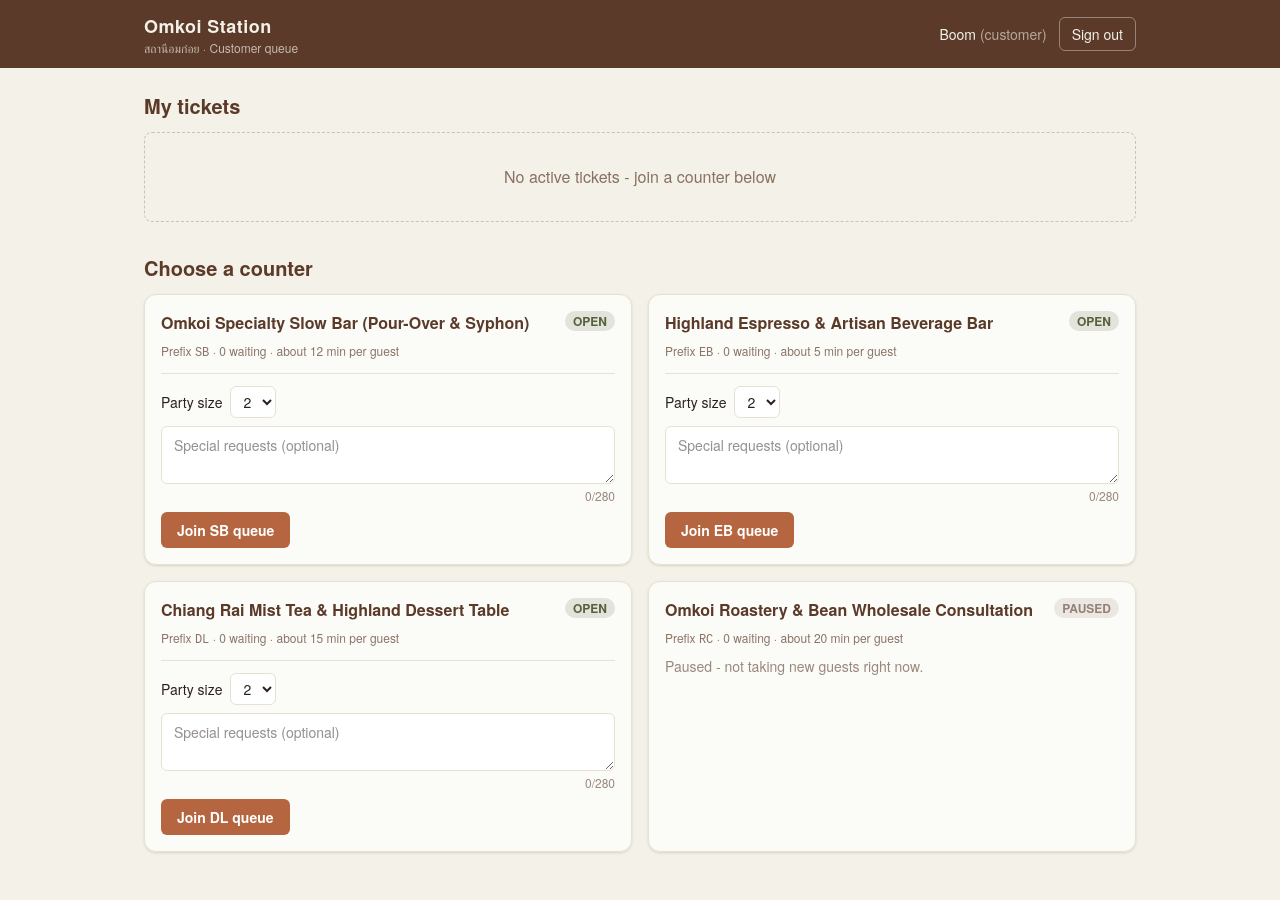
Test case: TEST-13 / AC-04, NFR-05: customer queue portal (component, mocked API) › disables joining a paused counter and shows the server's 409 message in a banner
Expected: the text "Paused - not taking new guests right now." is shown, [665,656,923,676]
Click the button "Join EB queue": {"x": 730, "y": 530} [665,512,794,548]
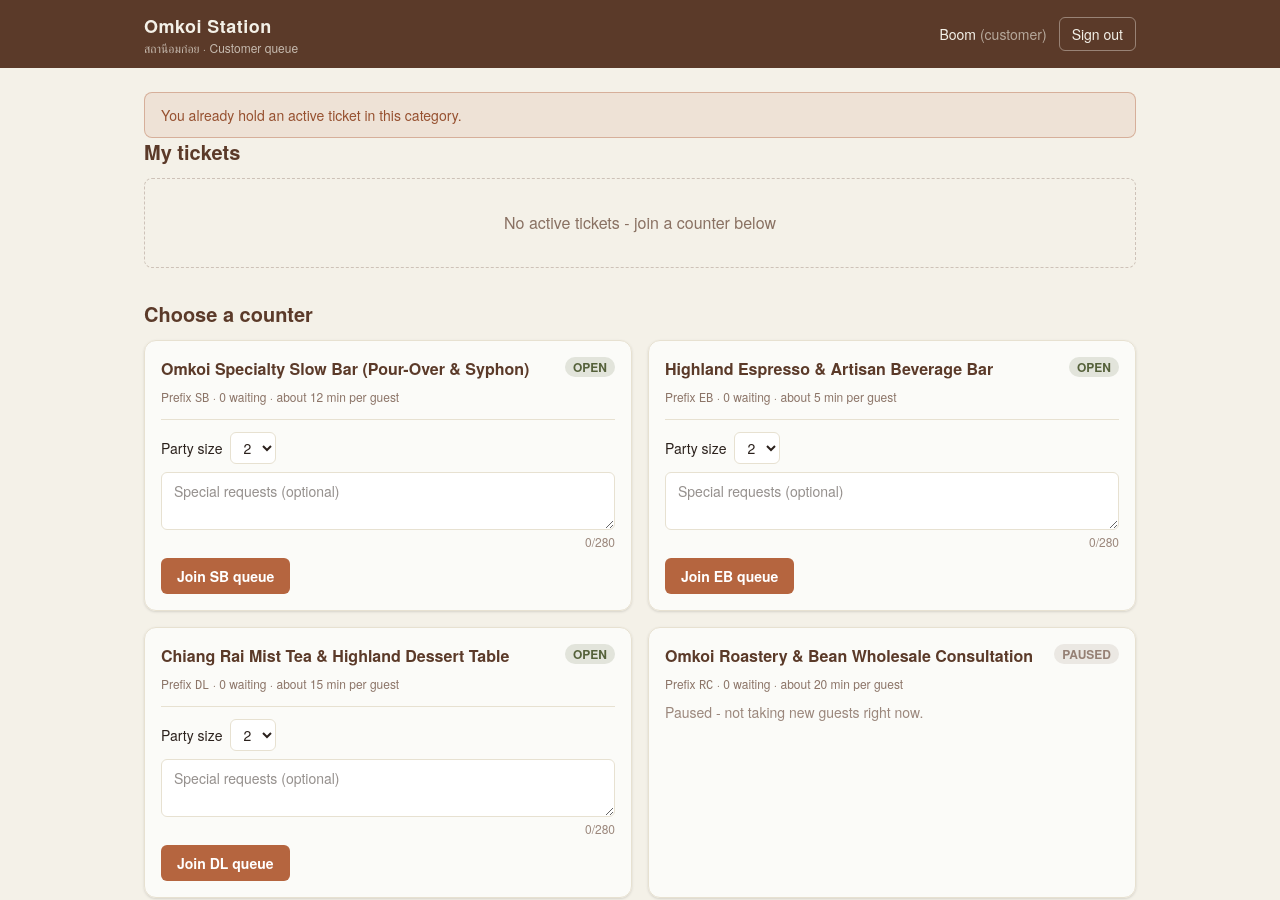
Now the message reads "You already hold an active ticket in this category.", box [161,105,462,125]
